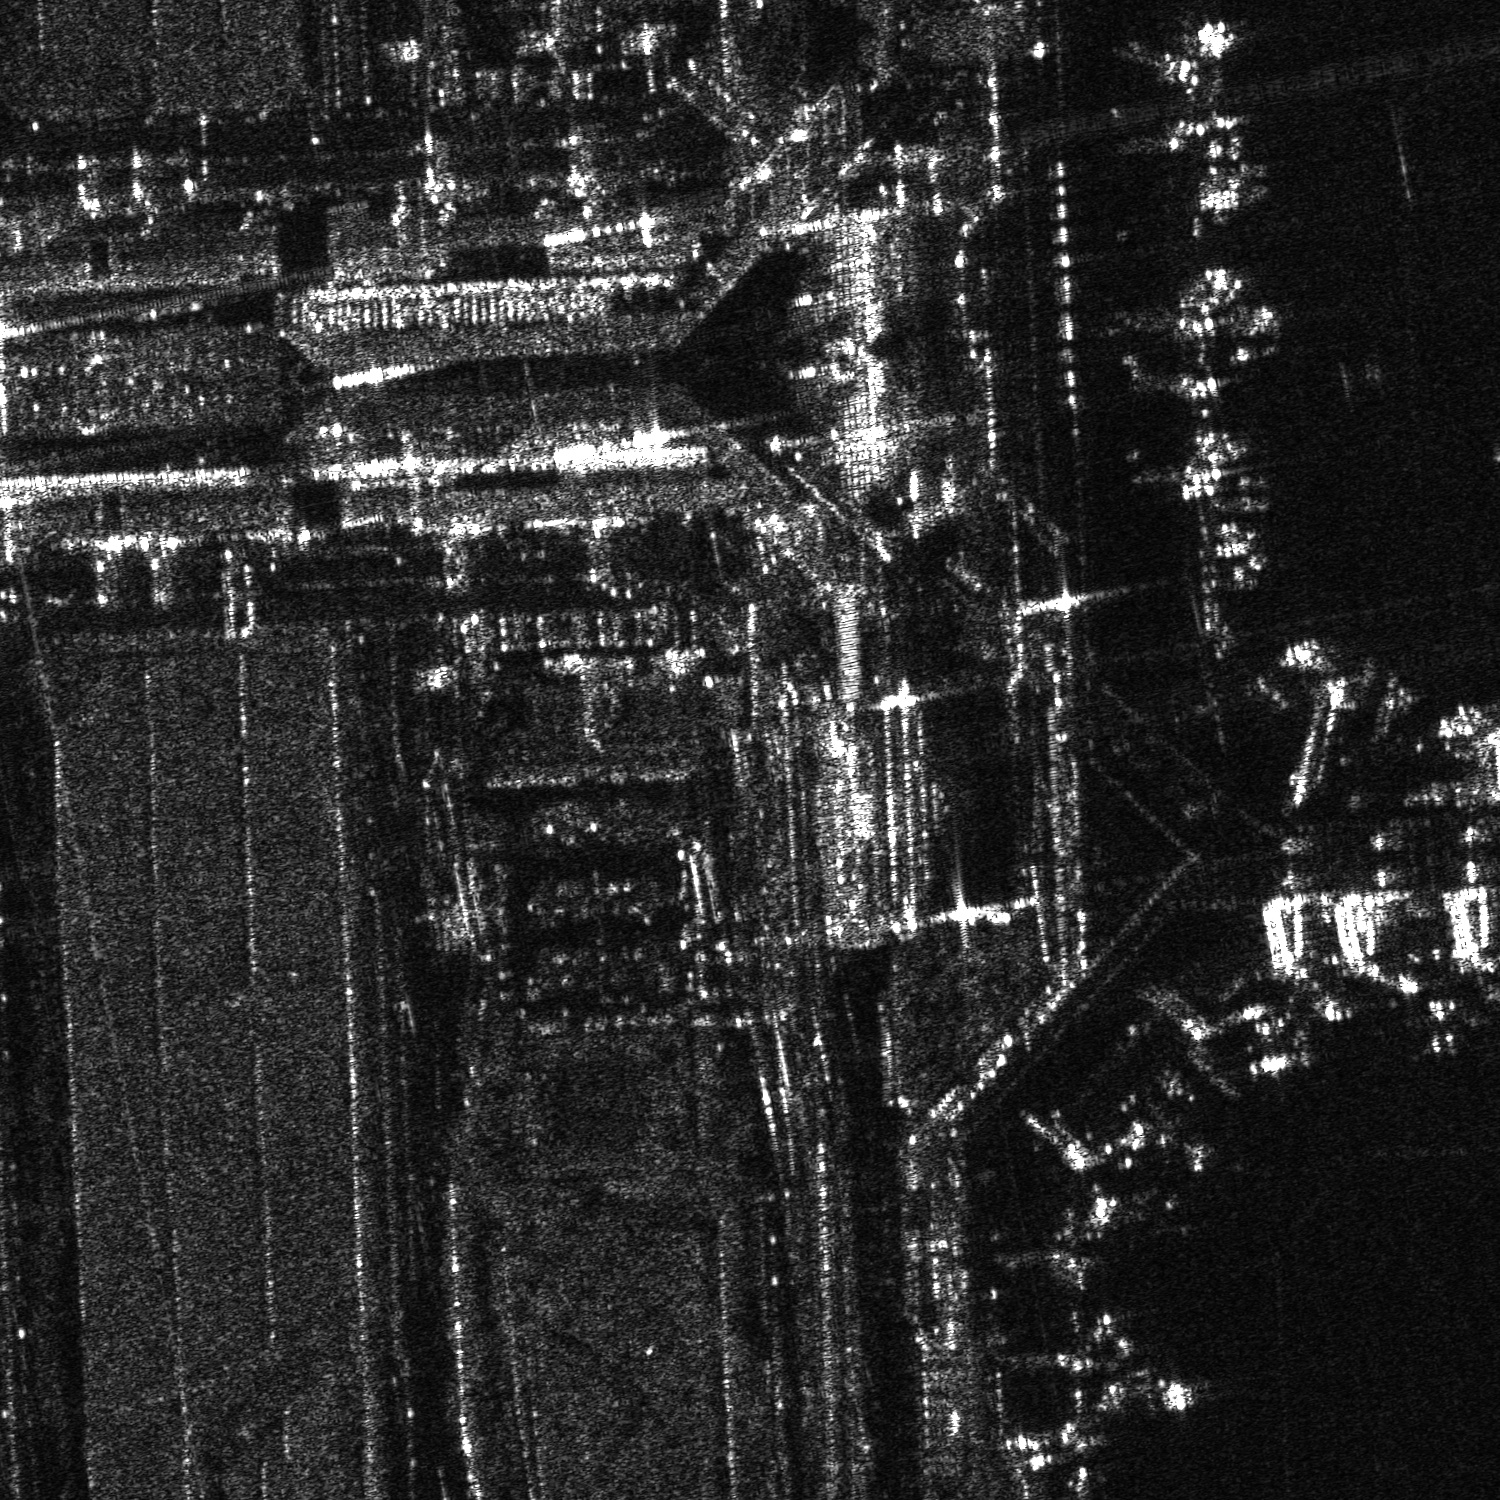A220: (1400, 990, 1481, 1060)
A320/321: (1174, 257, 1282, 365), (1074, 1332, 1202, 1420), (1163, 424, 1273, 514), (1137, 1113, 1218, 1179)
